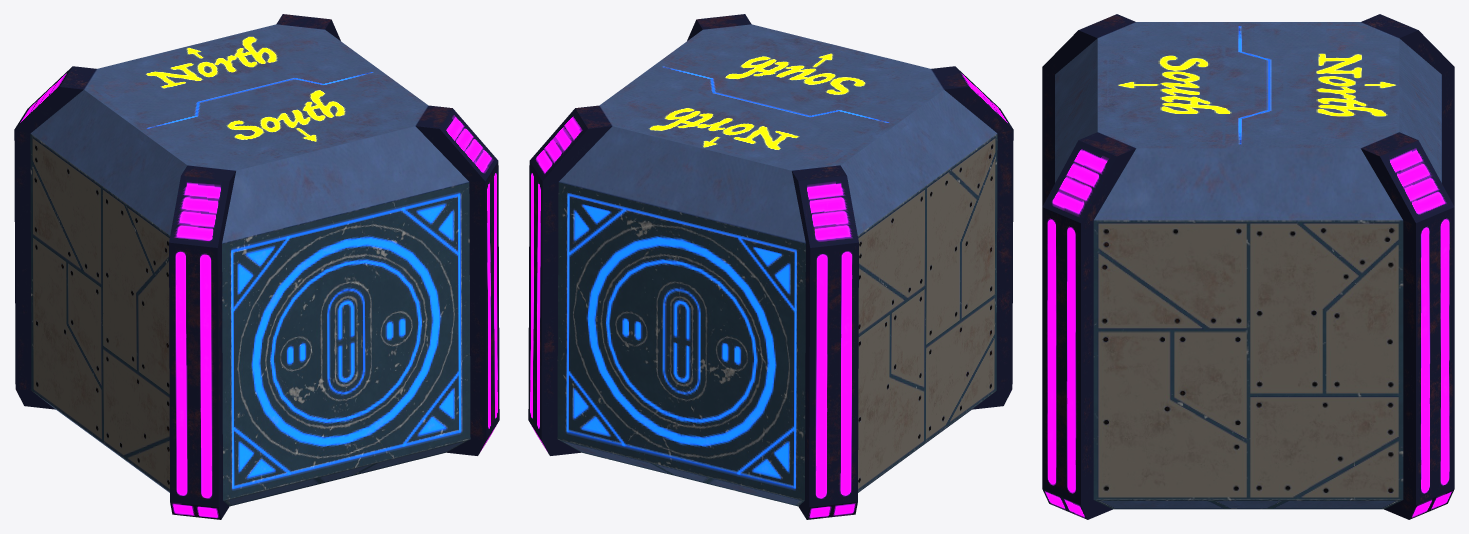
The picture shows the model from 3 angles, left to right: view 1: azimuth 30°, elevation 25°; view 2: azimuth 150°, elevation 25°; view 3: azimuth 270°, elevation 25°; orthographic projection. The views are drawn at different scales.
Parts seen in each view (by area): view 1: LowPolyCrate; view 2: LowPolyCrate; view 3: LowPolyCrate.
Boxes of the visible parts, <box> form: LowPolyCrate: <box>14,14,499,519</box>; LowPolyCrate: <box>528,14,1013,519</box>; LowPolyCrate: <box>1042,14,1454,519</box>.
Size of the model in its own units: 2.01 by 1.88 by 2.
Materials: 1 (1 with a texture image).
